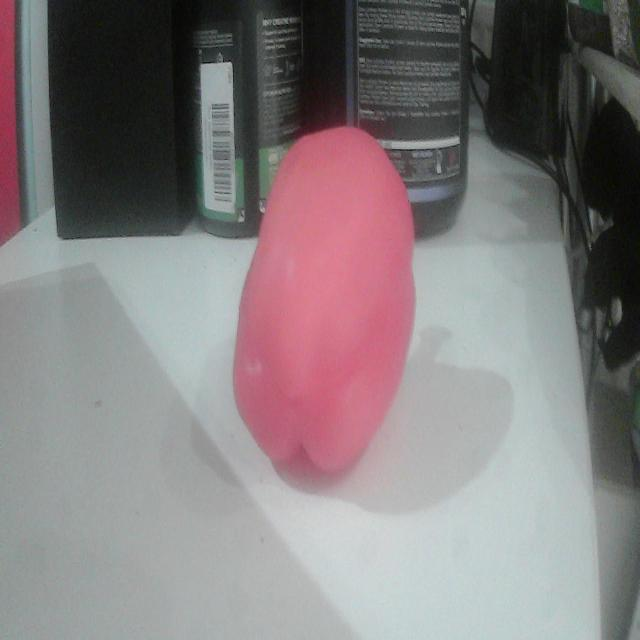Bell Pepper: (233, 127, 415, 476)
